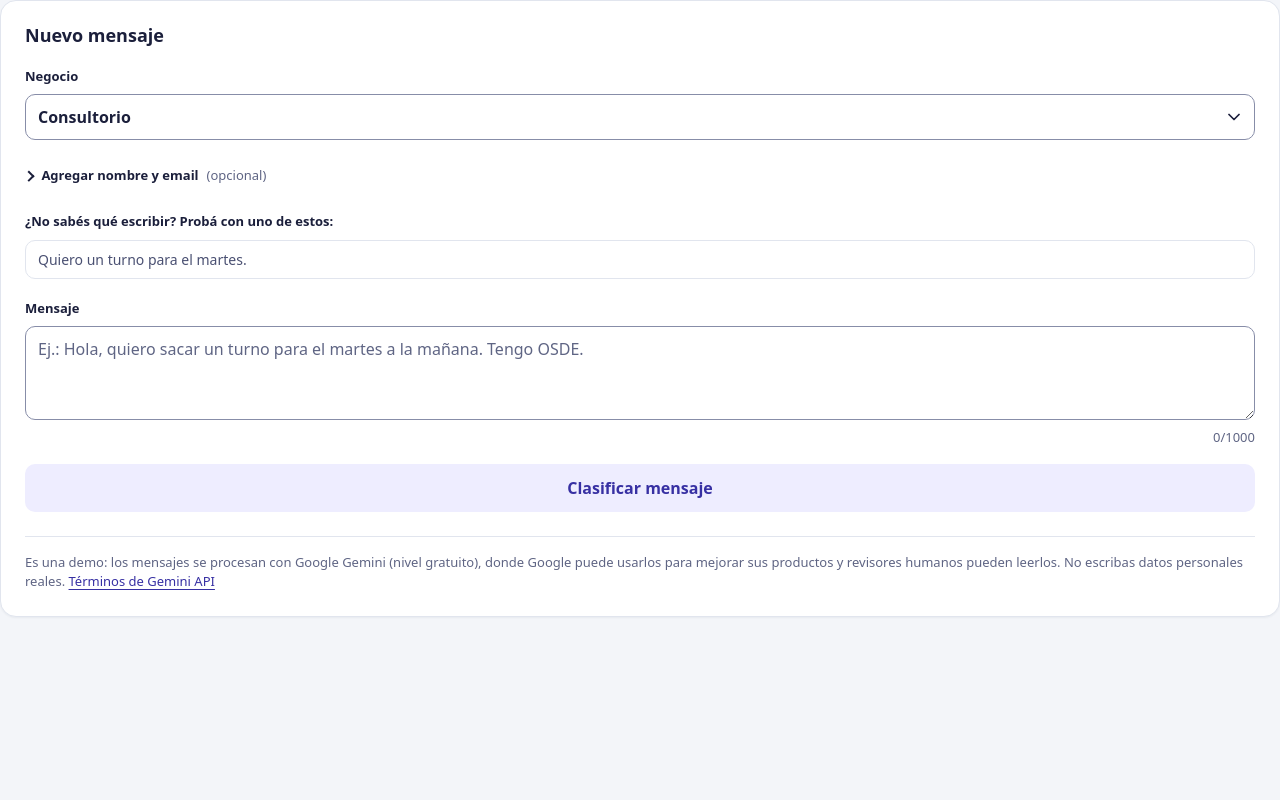
Test: MessageForm › shows the limit message the API answers with a 429
The width and height of the screenshot is (1280, 800).
Replace the text in the text box labelled "Mensaje" with "Hola" at (640, 373), box [25,326,1255,420]
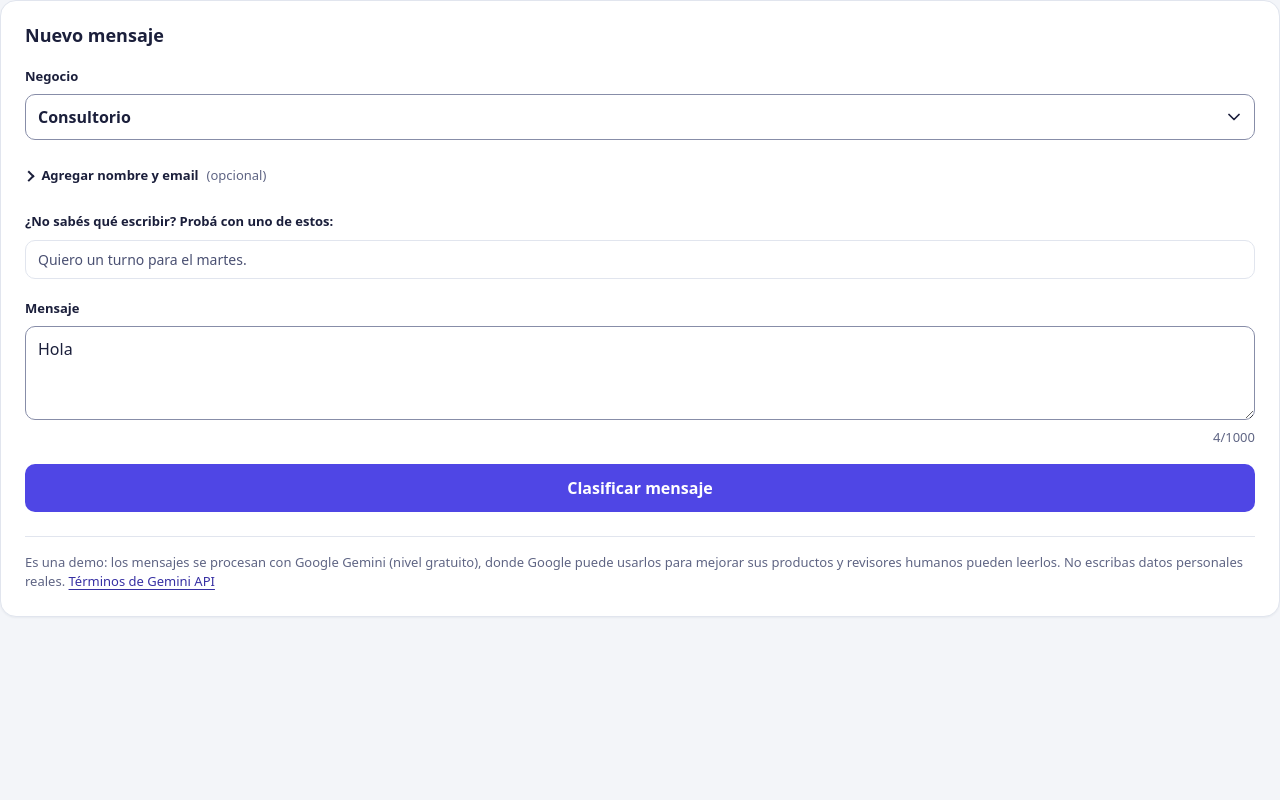
Click the button "Clasificar mensaje" at (640, 488), box [25,464,1255,512]
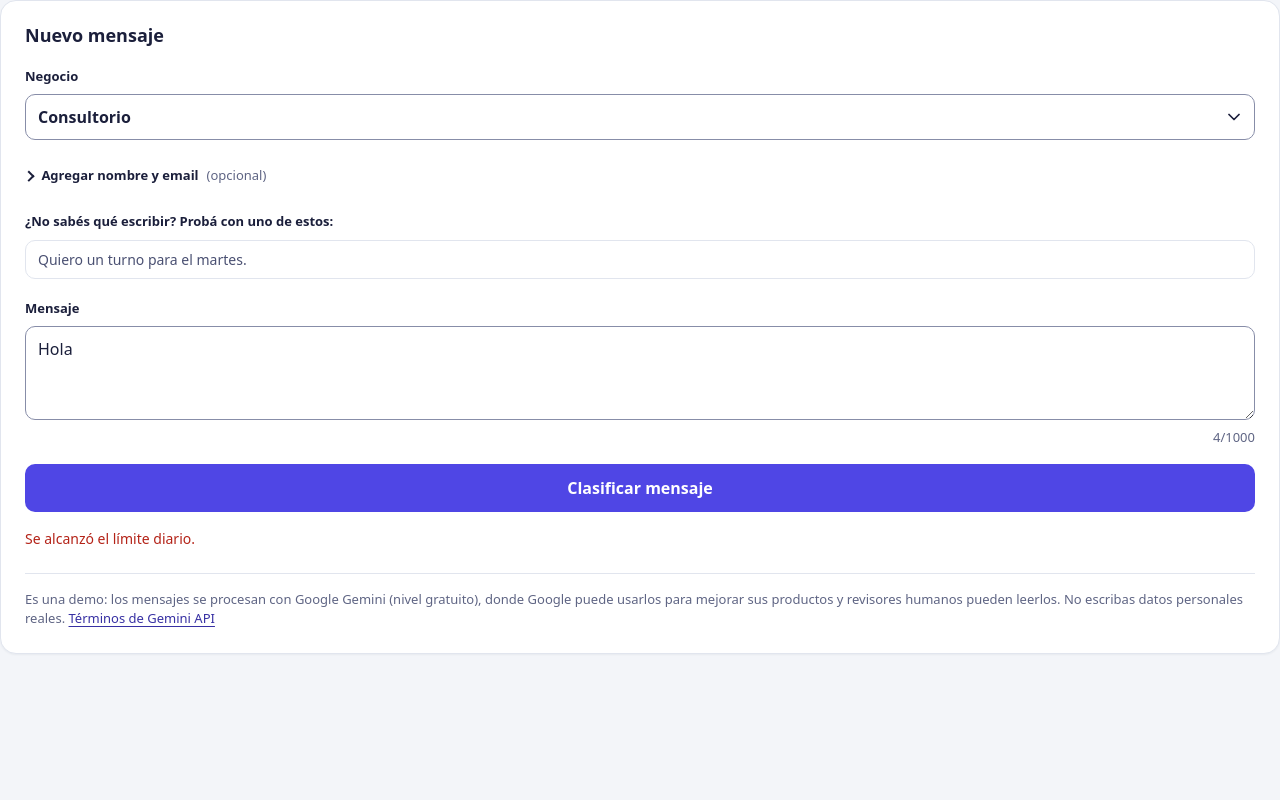
Result: the button "Clasificar mensaje" is enabled at [25,464,1255,512]
Result: the message reads "Se alcanzó el límite diario." at [25,529,195,548]
